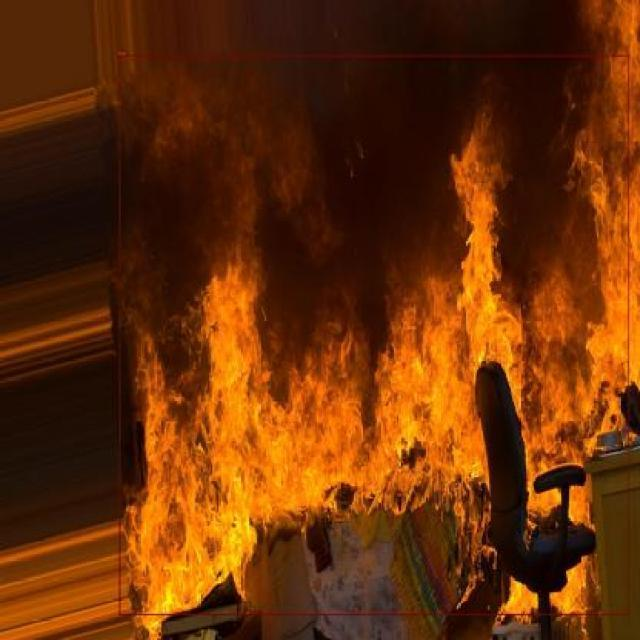Fire: (118, 55, 630, 614)
